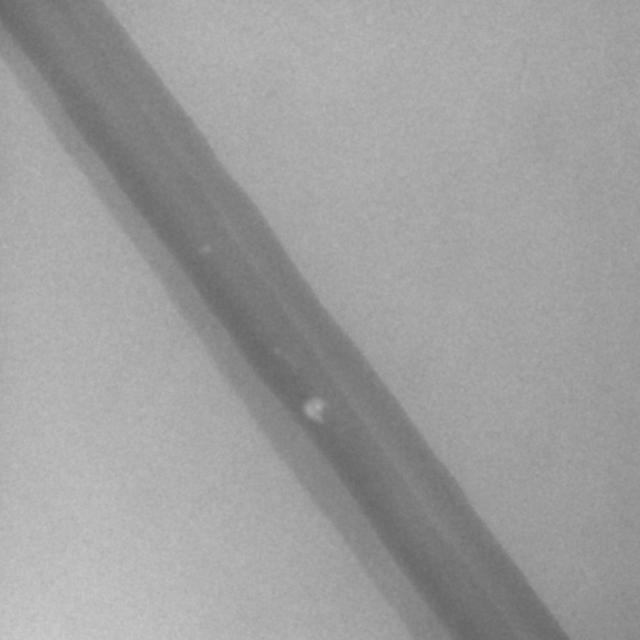air-hole: (305, 397, 325, 426), (204, 238, 212, 252), (275, 344, 279, 354)
